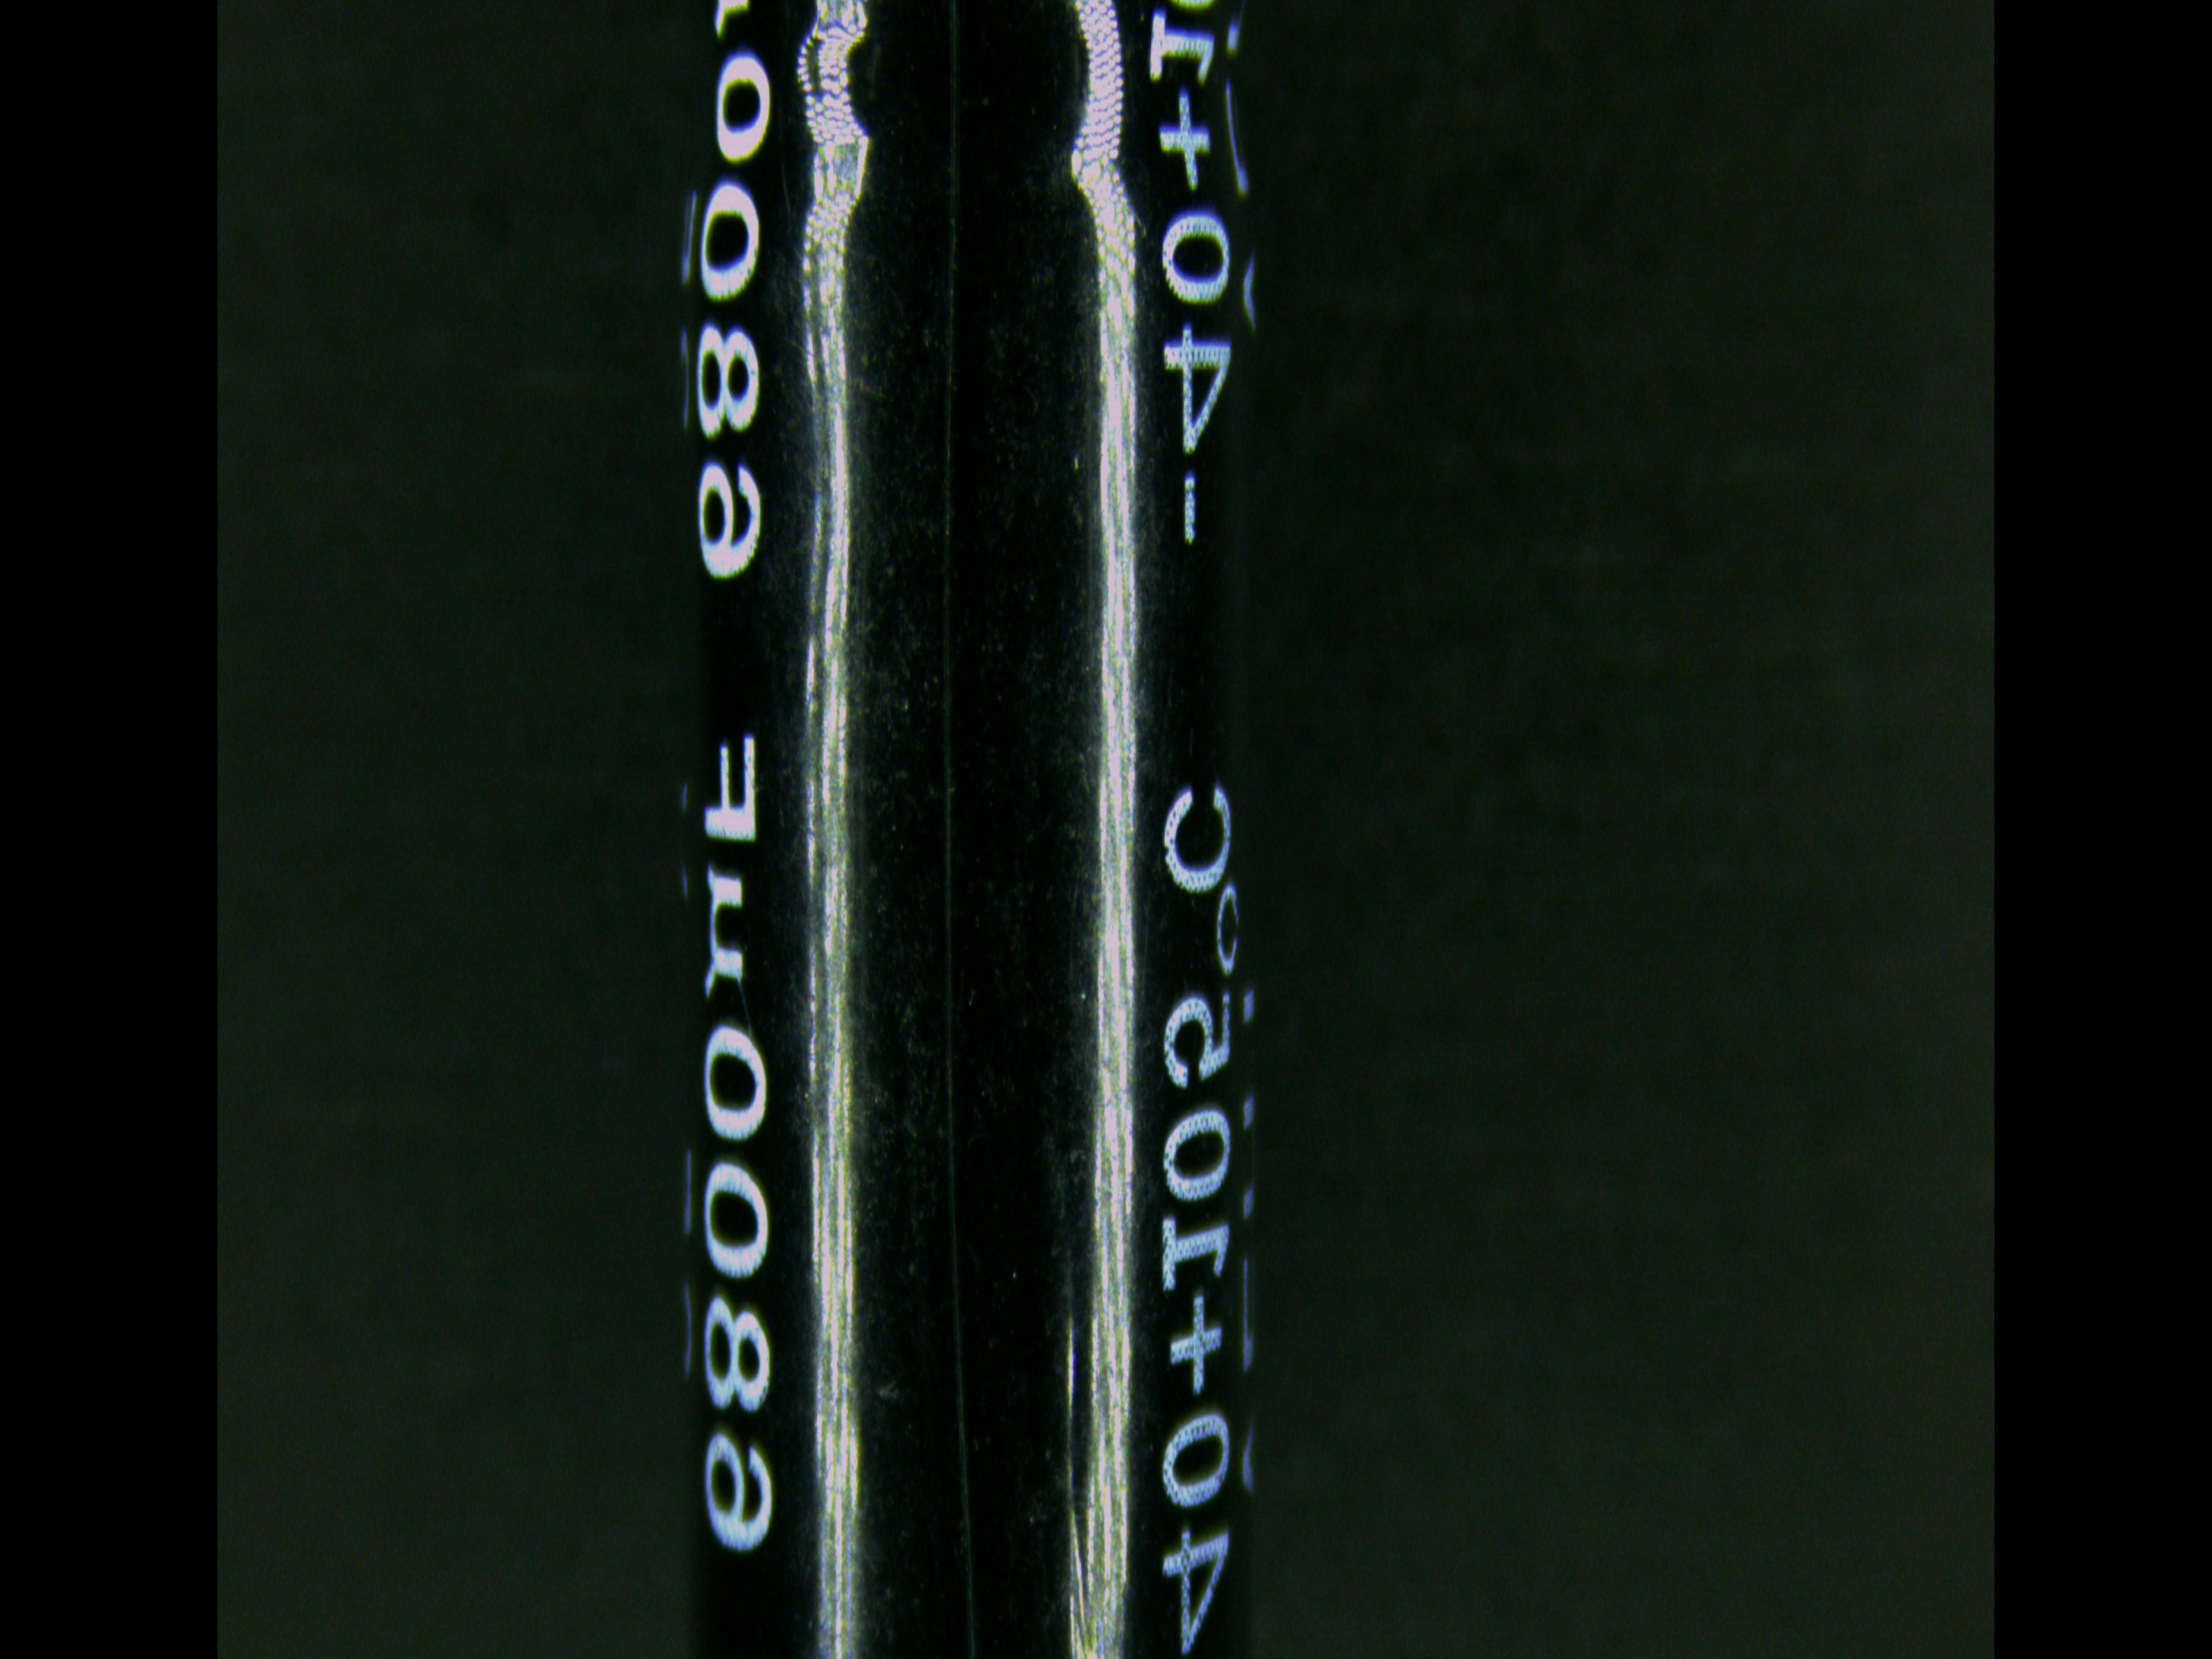c3: (671, 0, 1266, 1659)
